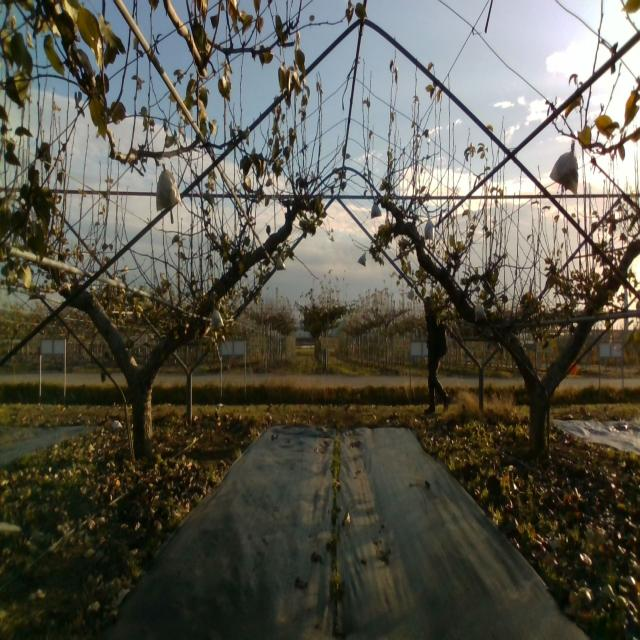pearbags: (424, 294, 448, 417), (550, 139, 578, 196), (156, 168, 182, 212), (474, 299, 488, 322), (210, 310, 225, 330), (424, 219, 437, 241), (371, 201, 382, 219)
